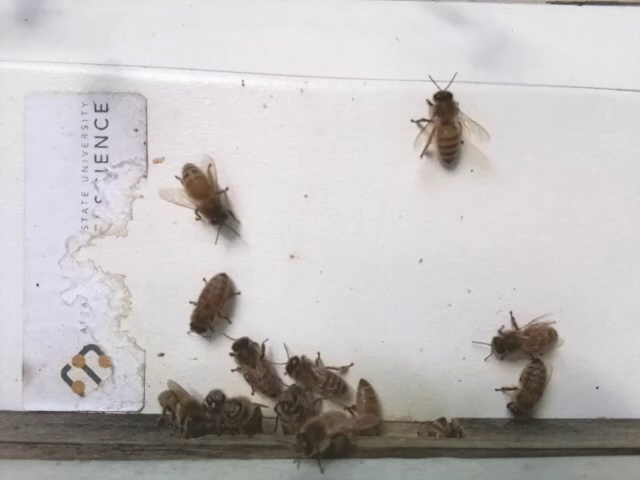bee: (404, 65, 500, 174), (156, 149, 256, 244), (486, 352, 571, 426), (179, 263, 253, 339), (464, 308, 569, 360), (275, 337, 358, 400), (217, 328, 290, 399), (286, 405, 362, 473), (153, 377, 211, 440), (219, 396, 271, 439), (268, 386, 320, 427), (351, 374, 386, 425), (201, 384, 223, 408)
